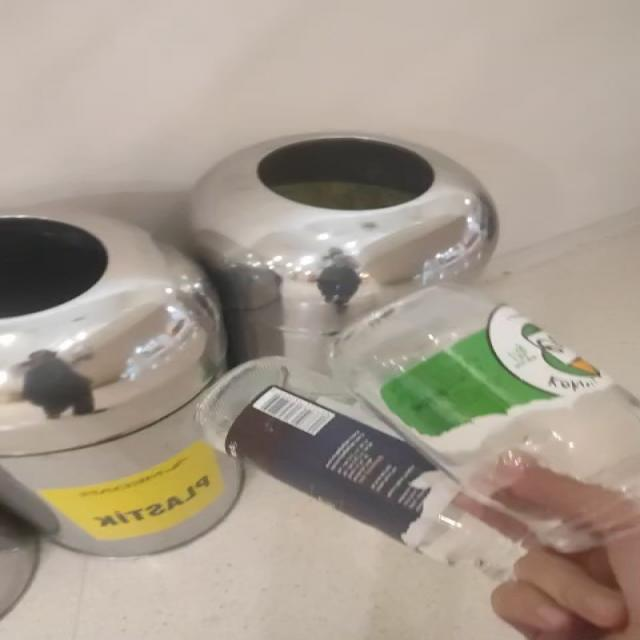Glass: (200, 285, 639, 581)
